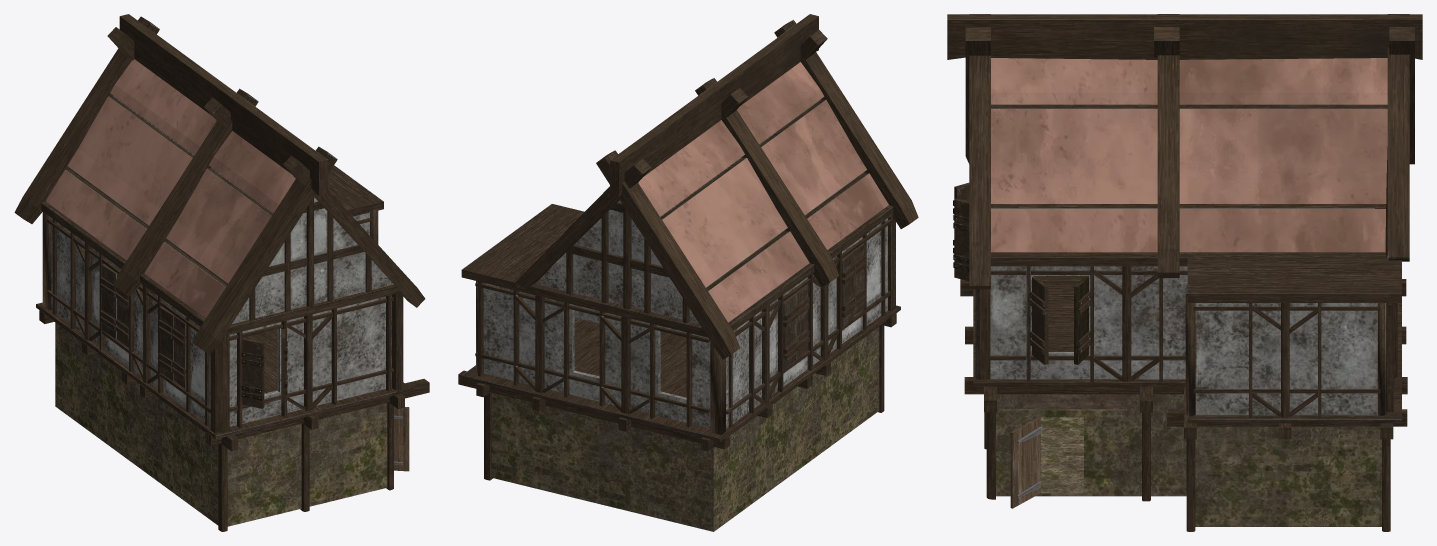
File: tavern.glb
3 renders of one model, left to right at view 1: azimuth 30°, elevation 25°; view 2: azimuth 150°, elevation 25°; view 3: azimuth 270°, elevation 25°, orthographic. The views are drawn at different scales.
Visible parts, largest first — view 1: Roof_Roof_0, Two_section_Two_section_0, One_section_One_Section_0, Cube055_stwor4_0, Door_Door_0; view 2: Roof_Roof_0, Two_section_Two_section_0, One_section_One_Section_0; view 3: Roof_Roof_0, Two_section_Two_section_0, One_section_One_Section_0, Door_Door_0, Cube059_stwor1_0, Cube057_stwor3_0, Cube053_stvor2_0.
Boxes of the visible parts, x1,y1,x2,y2 form: Roof_Roof_0: [14, 14, 425, 354]; Two_section_Two_section_0: [36, 165, 410, 438]; One_section_One_Section_0: [39, 310, 429, 531]; Cube055_stwor4_0: [241, 338, 264, 408]; Door_Door_0: [394, 406, 409, 471]; Roof_Roof_0: [515, 14, 918, 359]; Two_section_Two_section_0: [461, 204, 900, 441]; One_section_One_Section_0: [458, 313, 896, 531]; Roof_Roof_0: [947, 14, 1422, 289]; Two_section_Two_section_0: [973, 252, 1401, 423]; One_section_One_Section_0: [960, 279, 1407, 531]; Door_Door_0: [1010, 417, 1041, 508]; Cube059_stwor1_0: [1030, 276, 1048, 364]; Cube057_stwor3_0: [953, 198, 969, 281]; Cube053_stvor2_0: [1074, 276, 1090, 364].
Bounding box in the file's own units: 10.68 × 13.12 × 13.12.
8 materials, 8 textured.
